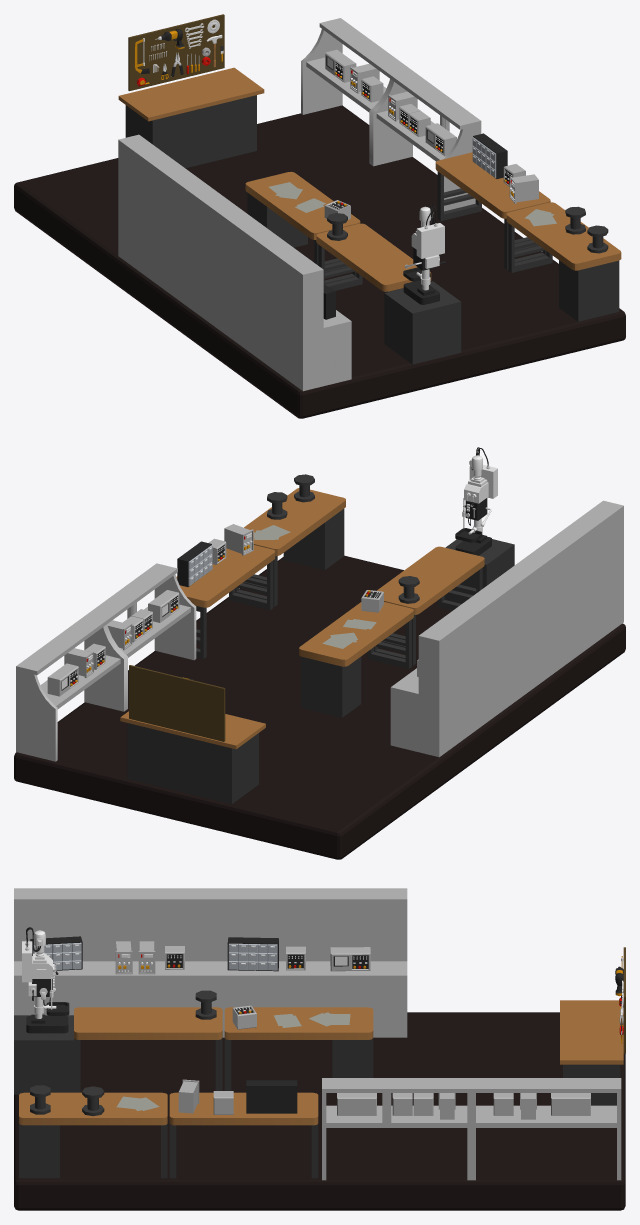
The model's file is Ferramentas.fbx.
3 renders of one model, top to bottom at view 1: azimuth 30°, elevation 25°; view 2: azimuth 150°, elevation 25°; view 3: azimuth 270°, elevation 25°, orthographic. The views are drawn at different scales.
Parts seen in each view (by area): view 1: Chao Ferramentas, Plano.007, Cubo.036, Cubo.016, Cubo.002, Cubo.005, Cubo.001, Cubo.006, Cubo.009, Plane.001, Cubo.041, Bézier - Curva.005 (+4 smaller); view 2: Chao Ferramentas, Plano.007, Cubo.036, Cubo.005, Cubo.006, Cubo.016, Plane.001, Cubo.002, Cubo.009, Cubo.041, Bézier - Curva.005, Cubo.001 (+5 smaller); view 3: Chao Ferramentas, Plano.007, Cubo.016, Cubo.006, Cubo.005, Cubo.009, Cubo.002, Cubo.036, Cubo.041, Cubo.001, Bézier - Curva.005, Cube.013 (+19 smaller).
Boxes of the visible parts, bbox=[...] form: Chao Ferramentas: bbox=[14, 105, 625, 418]; Plano.007: bbox=[118, 134, 351, 391]; Cubo.036: bbox=[118, 67, 264, 168]; Cubo.016: bbox=[506, 202, 621, 321]; Cubo.002: bbox=[371, 69, 481, 211]; Cubo.005: bbox=[301, 18, 410, 164]; Cubo.001: bbox=[384, 281, 461, 364]; Cubo.006: bbox=[245, 171, 360, 284]; Cubo.009: bbox=[316, 223, 431, 292]; Plane.001: bbox=[128, 14, 224, 91]; Cubo.041: bbox=[435, 152, 550, 269]; Bézier - Curva.005: bbox=[403, 205, 445, 304]; Chao Ferramentas: bbox=[14, 555, 625, 859]; Plano.007: bbox=[390, 500, 623, 757]; Cubo.036: bbox=[120, 711, 265, 804]; Cubo.005: bbox=[16, 615, 125, 761]; Cubo.006: bbox=[299, 602, 413, 717]; Cubo.016: bbox=[235, 488, 345, 606]; Plane.001: bbox=[129, 665, 225, 741]; Cubo.002: bbox=[86, 563, 196, 709]; Cubo.009: bbox=[374, 546, 484, 665]; Cubo.041: bbox=[176, 545, 275, 658]; Bézier - Curva.005: bbox=[455, 447, 497, 555]; Cubo.001: bbox=[437, 539, 514, 603]; Chao Ferramentas: bbox=[14, 1012, 625, 1210]; Plano.007: bbox=[14, 888, 407, 1037]; Cubo.016: bbox=[19, 1092, 167, 1178]; Cubo.006: bbox=[224, 1007, 373, 1090]; Cubo.005: bbox=[471, 1078, 621, 1180]; Cubo.009: bbox=[74, 1007, 222, 1092]; Cubo.002: bbox=[322, 1078, 471, 1180]; Cubo.036: bbox=[560, 1000, 623, 1105]; Cubo.041: bbox=[169, 1092, 318, 1178]; Cubo.001: bbox=[14, 1015, 73, 1094]; Bézier - Curva.005: bbox=[22, 927, 69, 1033]; Cube.013: bbox=[246, 1080, 297, 1113].
Size of the model in its own units: 472 by 242 by 716.
